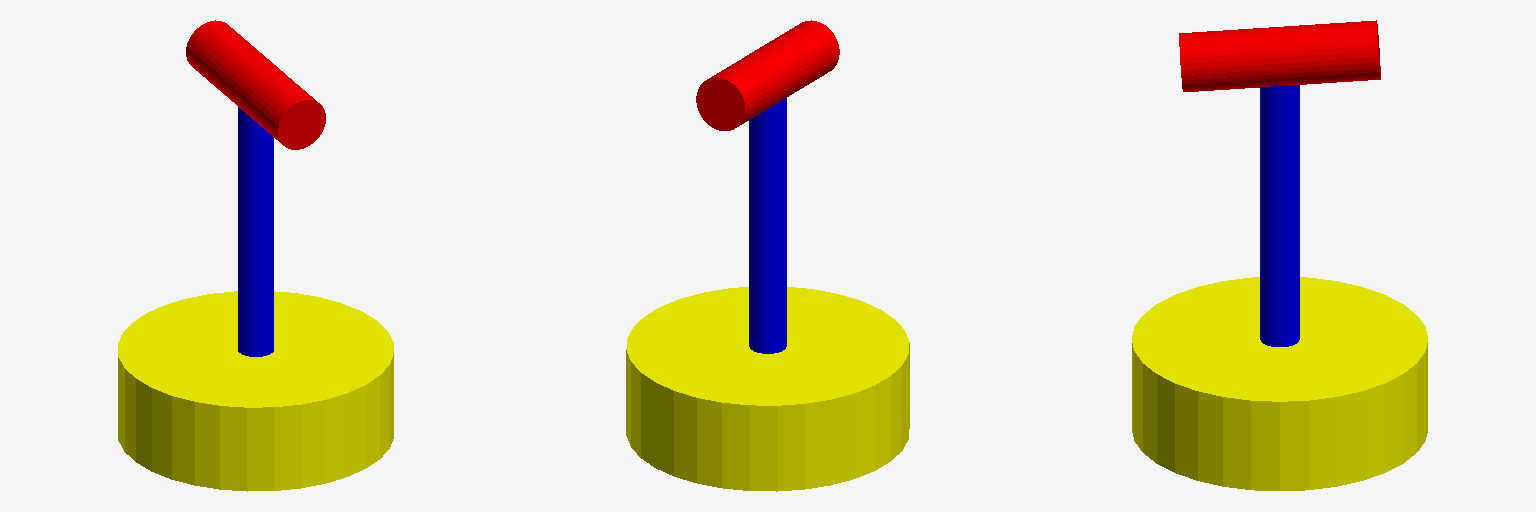
The robot description file, URDF, robot "pan_tilt":
<?xml version="1.0"?>
<robot name="pan_tilt">
<!-- *********************************** BASE LINK ***************************    -->
  <link name="base_link">
  <visual>
      <geometry>
	     <cylinder length="0.2" radius="0.3"/>
      </geometry>
      <origin rpy="0 0 0" xyz="0 0 0"/>
      <material name="yellow">
             <color rgba="1 1 0 0.5"/> 
      </material>
    </visual>
 </link>

<!-- *********************************** PAN LINK ***************************    -->
  <joint name="pan_joint" type="revolute">
    <parent link="base_link"/>
    <child link="pan_link"/>
    <origin rpy="0 0 0" xyz="0 0 0.1"/> <!-- 0.1 m en z desde base link-->
    <axis xyz="0 0 1" />		<!-- rotacion sobre el eje z-->
    <limit effort="300" velocity="0.1" lower="-3.14" upper="3.14"/>
  </joint>

  <link name="pan_link">
    <visual>
      <geometry>
	<cylinder length="0.6" radius="0.04"/>
      </geometry>
      <origin rpy="0 0 0" xyz="0 0 0.3"/>
      <material name="red">
        <color rgba="0 0 1 1"/>
      </material>
    </visual>

    <collision>
      <geometry>
	<cylinder length="0.4" radius="0.1"/>
      </geometry>
      <origin rpy="0 0 0" xyz="0 0 0.3"/>
    </collision>
    <inertial>
	<mass value="1"/>
	<inertia ixx="1.0" ixy="0.0" ixz="0.0" iyy="1.0" iyz="0.0" izz="1.0"/>
    </inertial>
  </link>


<!-- *********************************** TILT LINK ***************************    -->
  <joint name="tilt_joint" type="revolute">
    <parent link="pan_link"/>
    <child link="tilt_link"/>
    <origin rpy="0 0 0" xyz="0 0 0.63"/>
    <axis xyz="	1 0 0" />
    <limit effort="300" velocity="0.1" lower="-4.64" upper="-1.5"/>
  </joint>



  <link name="tilt_link">
    <visual>
      <geometry>
	<cylinder length="0.4" radius="0.06"/>
      </geometry>
      <origin rpy="1.57075 0 0" xyz="0 0 0"/> <!-- rotacion del cilindro 90º sobre el ejex -->
      <material name="green">
        <color rgba="1 0 0 1"/>
      </material>
    </visual>

    <collision>
      <geometry>
	<cylinder length="0.4" radius="0.06"/>
      </geometry>
      <origin rpy="1.57075 0 0" xyz="0 0 0"/>
    </collision>
    <inertial>
	<mass value="1"/>
	<inertia ixx="1.0" ixy="0.0" ixz="0.0" iyy="1.0" iyz="0.0" izz="1.0"/>
    </inertial>

  </link>


</robot>

--- Render facts (derived) ---
3 views of the same robot in one strip: view 1: azimuth 30°, elevation 25°; view 2: azimuth 150°, elevation 25°; view 3: azimuth 270°, elevation 25° (orthographic).
Robot: pan_tilt — 3 links, 2 joints (2 revolute); root link base_link; default pose: joints at zero except 1 at the middle of their limits (tilt_joint = -3.07).
Visible links, largest first — view 1: base_link, tilt_link, pan_link; view 2: base_link, pan_link, tilt_link; view 3: base_link, tilt_link, pan_link.
Boxes of the visible links, x1,y1,x2,y2 form: base_link: (118, 291, 393, 491); tilt_link: (186, 20, 325, 149); pan_link: (238, 107, 273, 356); base_link: (626, 287, 909, 491); pan_link: (749, 98, 786, 353); tilt_link: (696, 20, 839, 130); base_link: (1132, 277, 1427, 490); tilt_link: (1179, 20, 1380, 91); pan_link: (1260, 85, 1299, 346).
Bounding box of the posed robot: 0.6 × 0.6 × 0.9041 m (x, y, z).
Geometry: primitives only (box / cylinder / sphere), no mesh files.